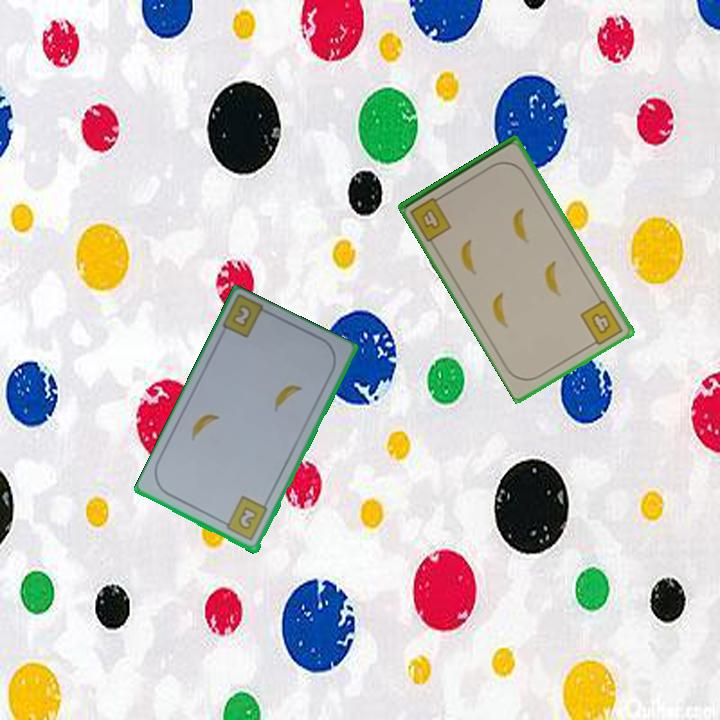2b: (218, 493, 271, 544), (228, 301, 254, 331)
4b: (577, 296, 626, 350), (406, 191, 455, 244)
